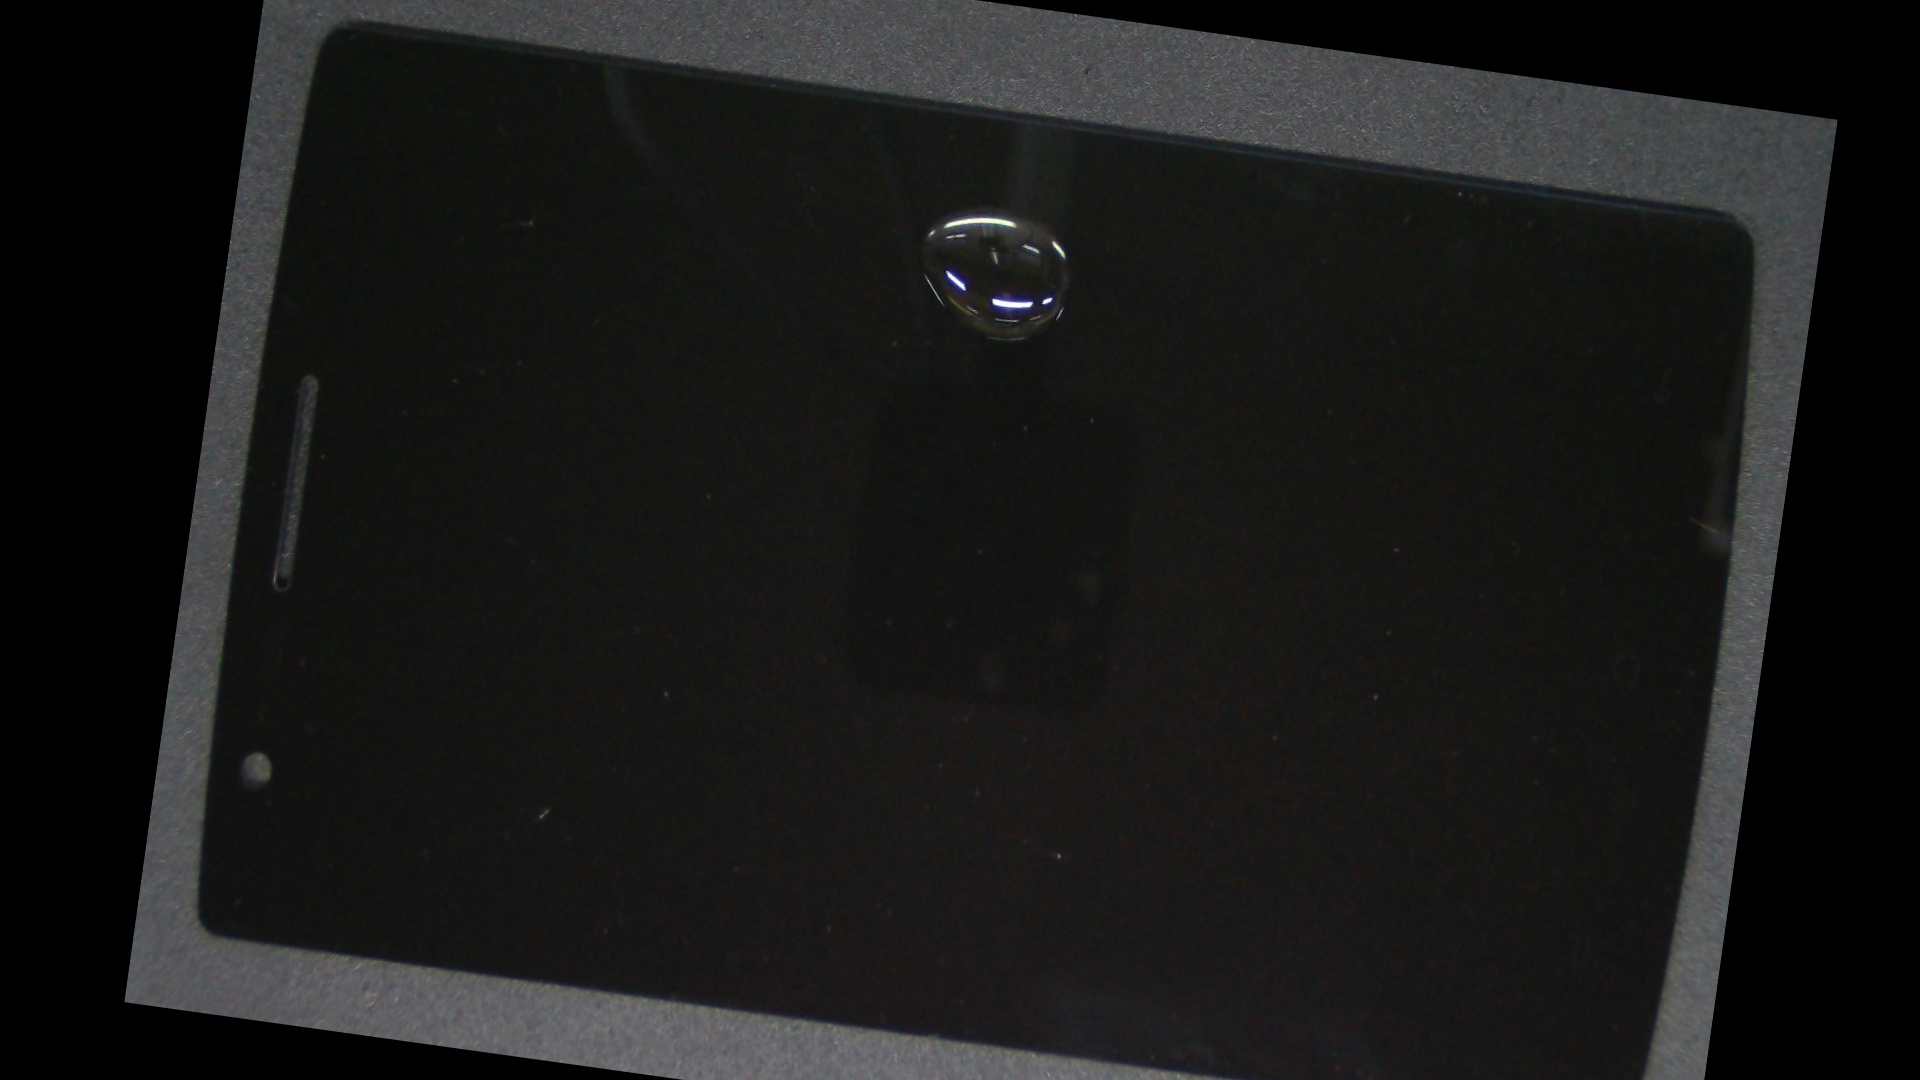oil: (605, 54, 1374, 359)
